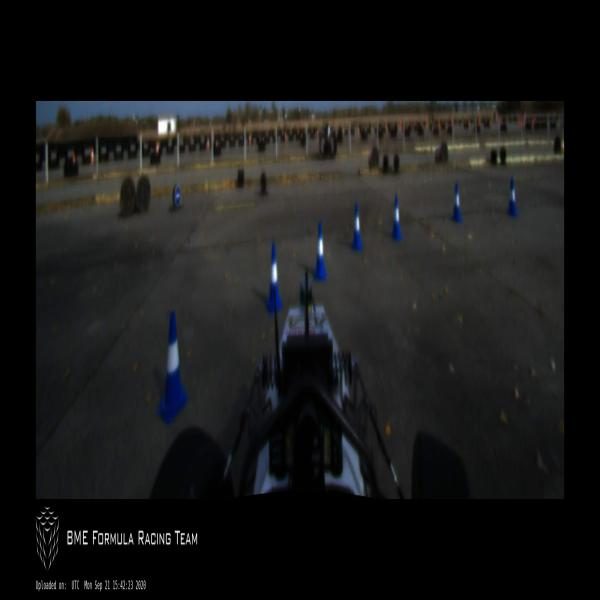blue_cone: (158, 309, 188, 421), (264, 240, 283, 318), (312, 219, 328, 283), (350, 204, 364, 252), (390, 194, 402, 242), (450, 183, 463, 222), (507, 176, 518, 215)
